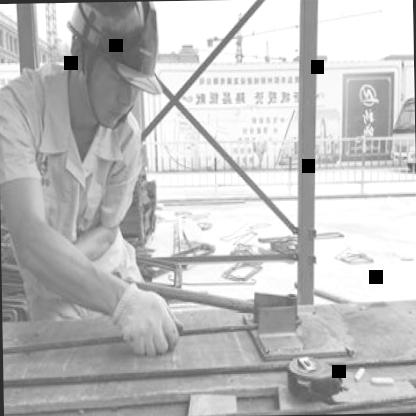helmet: (60, 2, 176, 136)
